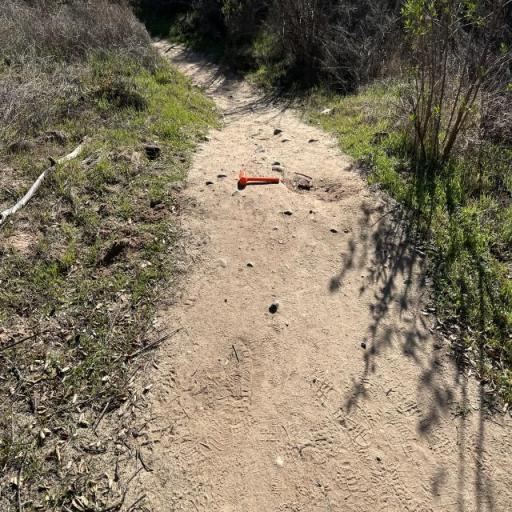mallet: (240, 171, 280, 186)
